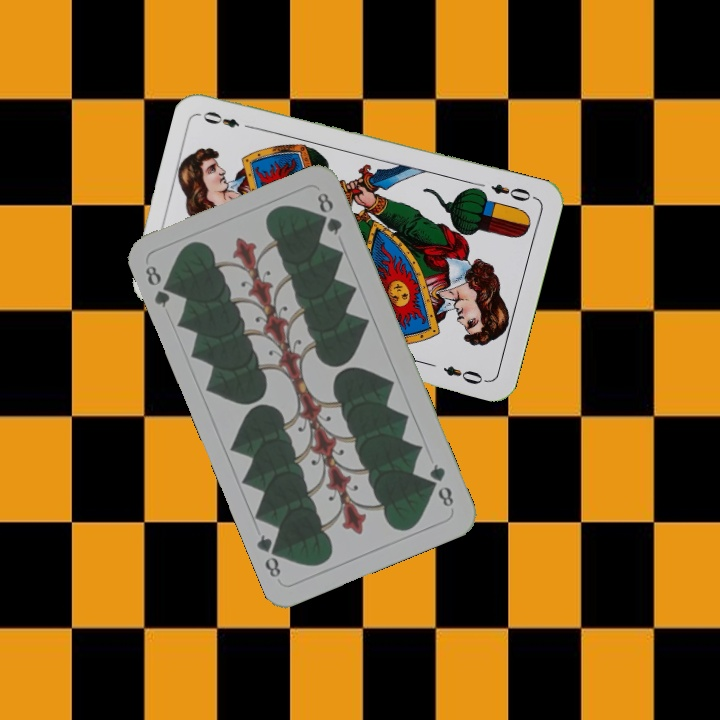EO: (487, 179, 533, 204)
G8: (141, 261, 177, 310), (425, 460, 456, 510)
